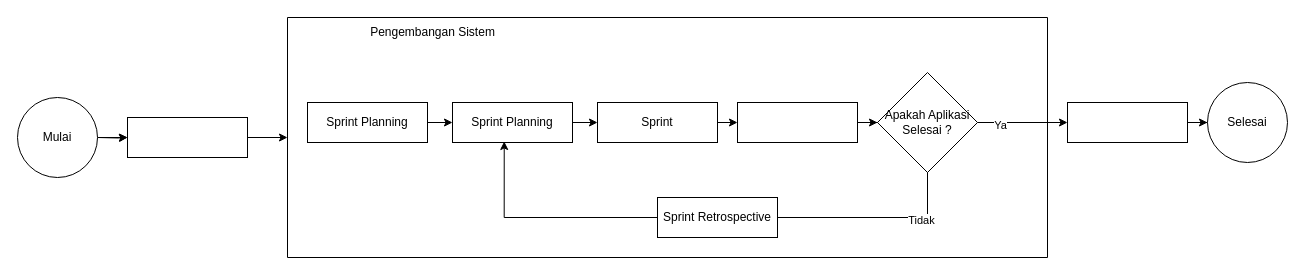
Image size: 1305x275. Some labels were removed from this diagram. The centre of each missing label's shape, as x and y in pixels:
"Identifikasi Kebutuhan Sistem" goes at pixel 187 137.
"Pengujian Sistem" goes at pixel 1127 122.
"Sprint Review" goes at pixel 797 122.
